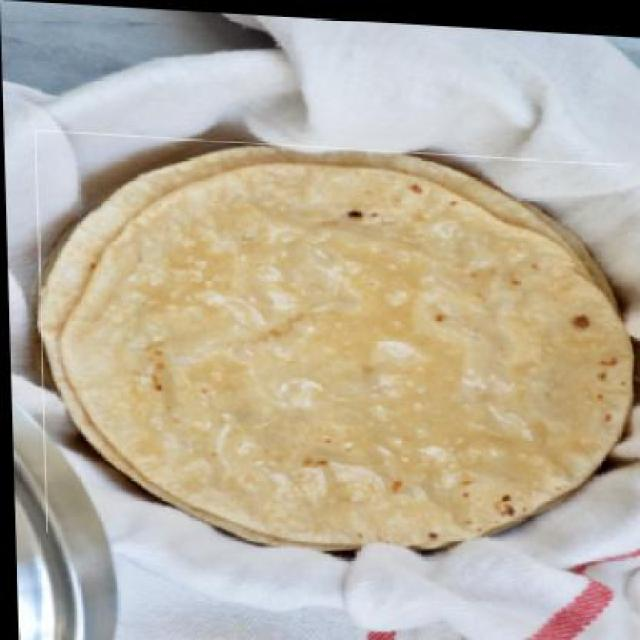chapati: (34, 129, 635, 562)
